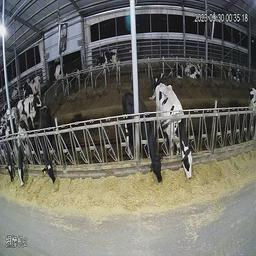cow: (153, 82, 194, 192), (122, 90, 165, 191), (36, 106, 60, 188), (11, 108, 31, 189), (2, 111, 20, 191), (88, 47, 120, 79), (15, 90, 46, 118), (25, 72, 47, 104), (183, 54, 204, 82), (153, 65, 174, 90), (206, 59, 222, 87), (171, 53, 185, 78), (226, 61, 240, 82)
